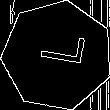L_W: (29, 36, 85, 75)
